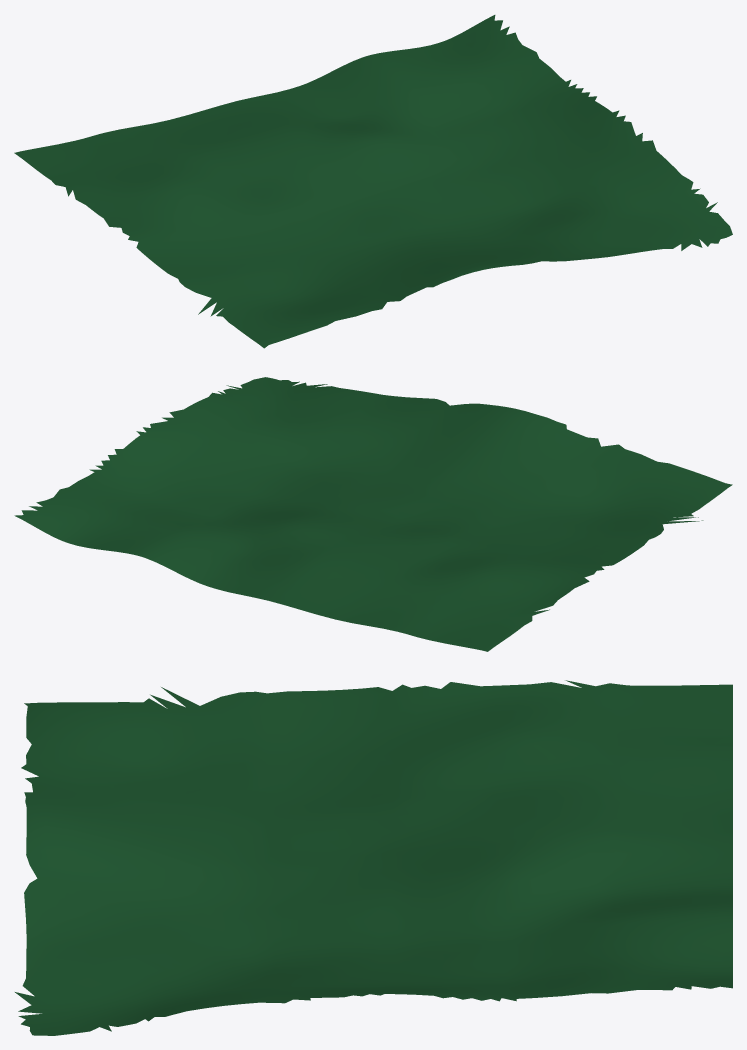
File: payo_land_x2_ym4.glb
The picture shows the model from 3 angles, top to bottom: view 1: azimuth 30°, elevation 25°; view 2: azimuth 150°, elevation 25°; view 3: azimuth 270°, elevation 25°; orthographic projection. The views are drawn at different scales.
Parts seen in each view (by area): view 1: payo_land_x2_ym4; view 2: payo_land_x2_ym4; view 3: payo_land_x2_ym4.
Part boxes in pixels (bbox=[...]): payo_land_x2_ym4: bbox=[14, 15, 732, 348]; payo_land_x2_ym4: bbox=[14, 377, 732, 651]; payo_land_x2_ym4: bbox=[15, 680, 732, 1035].
Size of the model in its own units: 270 by 21.5 by 235.
